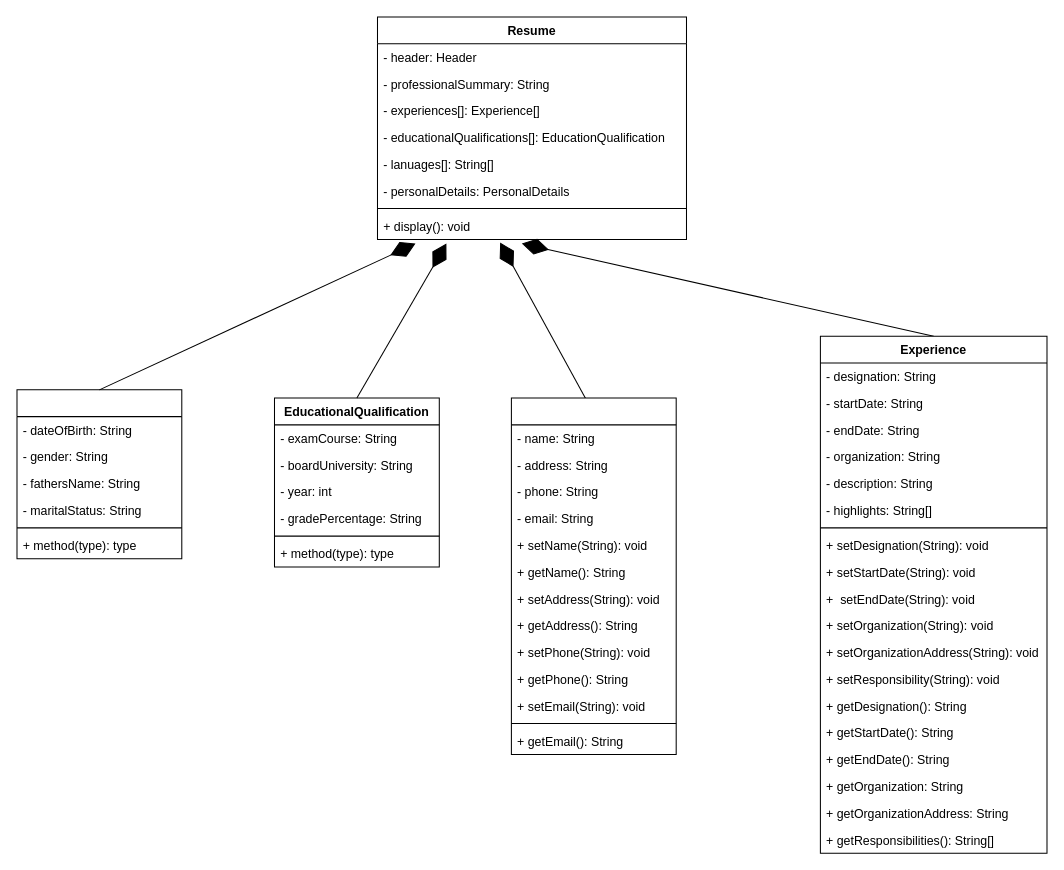
Some shapes in this 1064 by 870 pixel diagram are drawn without their labels. Each missing label, with the box of its shape:
Header: (510, 397, 676, 754)
PersonalDetails: (16, 389, 182, 559)
